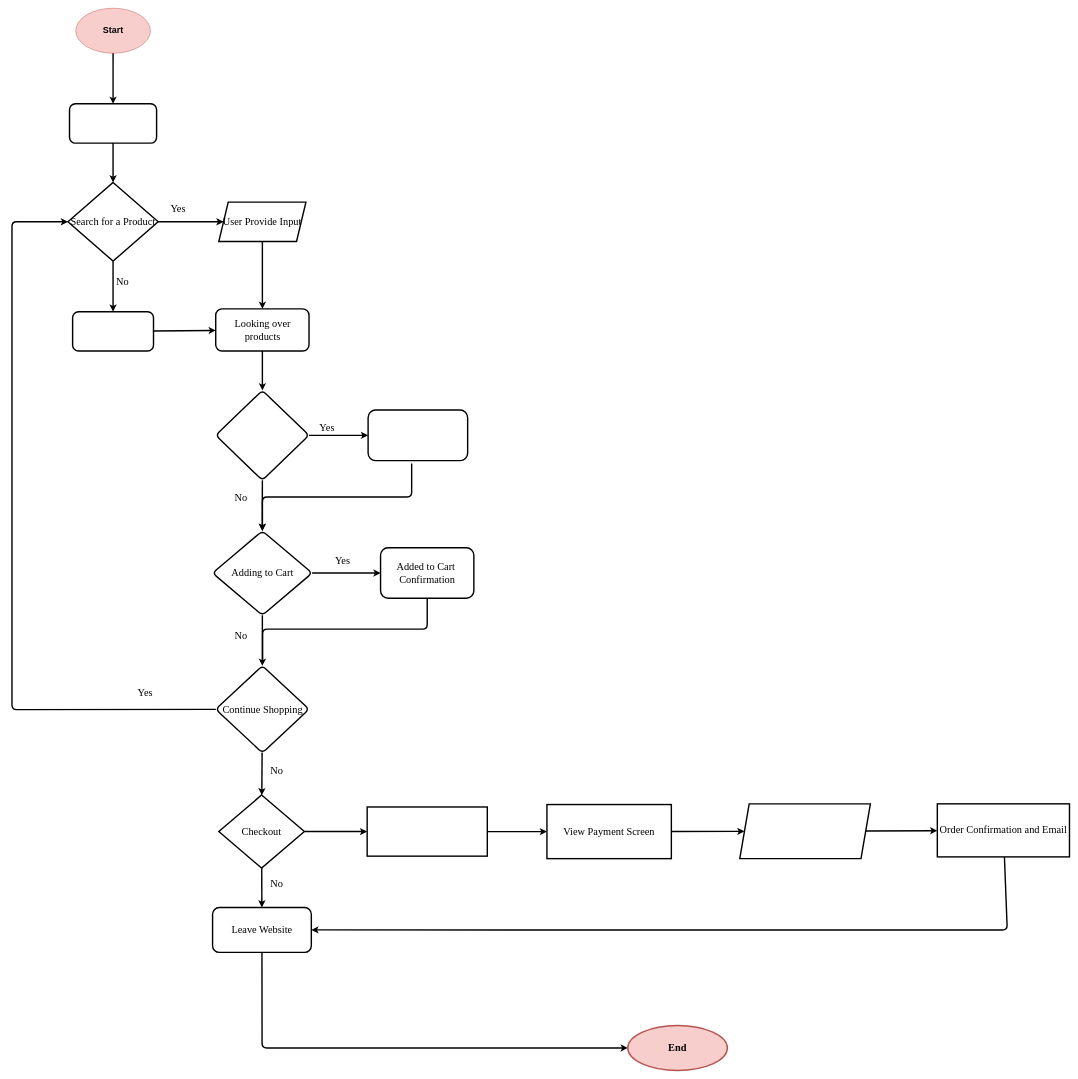
This 1078x1079 diagram has some shape labels left out. Each missing label, with the centre of its shape:
Explore on Home Page: point 113,331
Products Webpage Open: point 417,435
User Enter WebSite: point 113,123
User Input Payment Info: point 805,831
View Cart Screen: point 427,831
Viewing Specific Products: point 262,435
